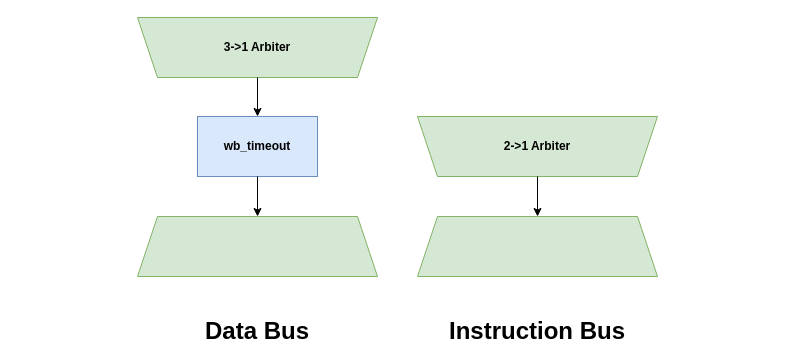
The diagram is 794 pixels wide and 364 high, and some of its shapes have lost their labels. Each missing label, with the box of its shape:
1->18 MUX: (136, 216, 378, 276)
1->4 MUX: (416, 216, 658, 276)
